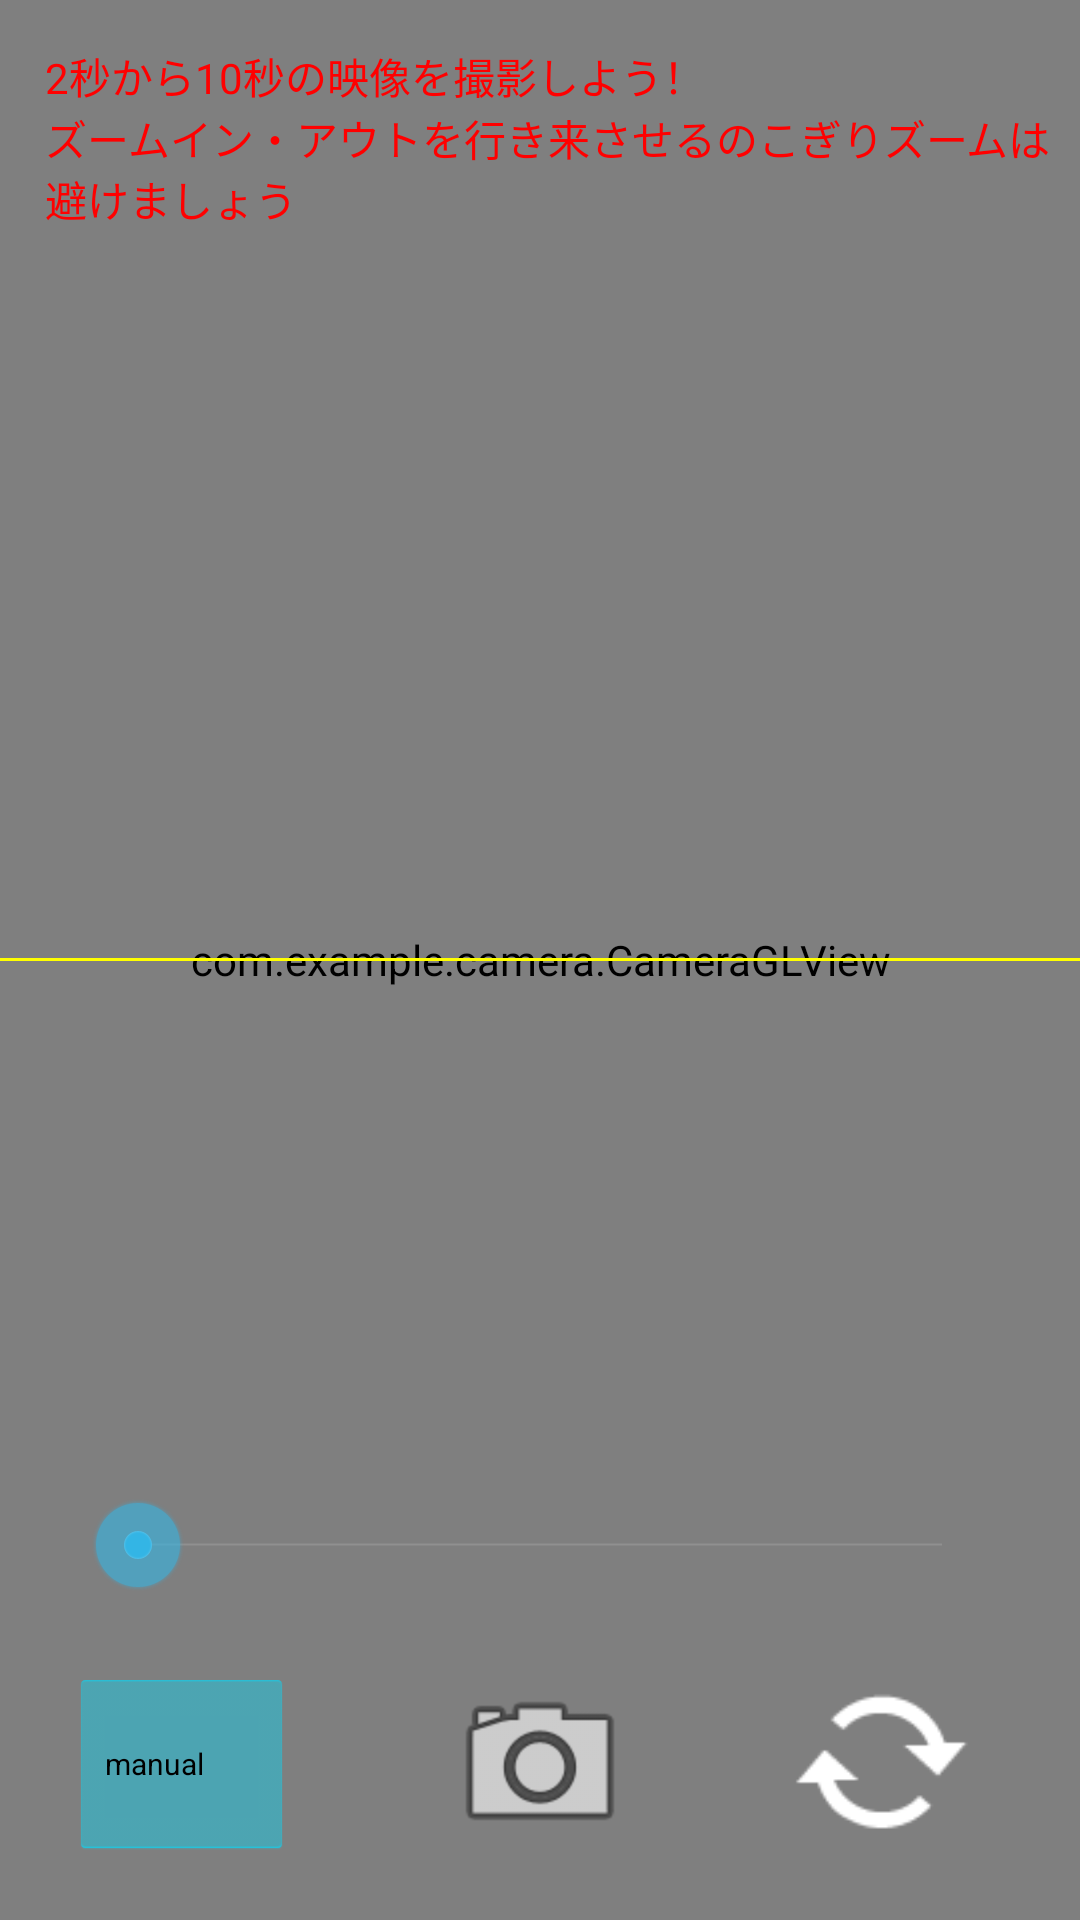

Screen size 1080x1920. Icon name, then its box in pixels as (x1, y1, x2, y2):
sync noanim: (796, 1695, 966, 1829)
